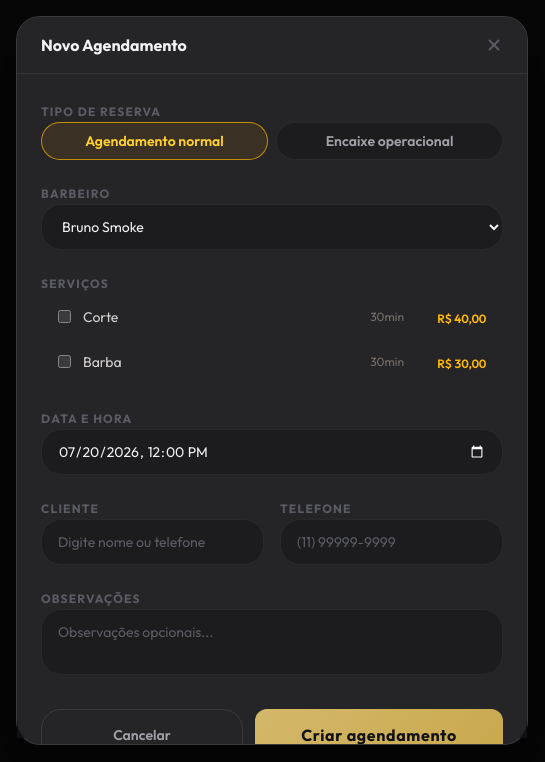
UI Cliente Clube no Modal de Agendamentos › 1. Cliente sem Clube: modal mantém preço normal e não mostra badge
// Buscar e selecionar cliente
Type "Maria" into the search field titled "Cliente".
click(152, 542); type("Maria")  # box left=41, top=518, right=264, bottom=564
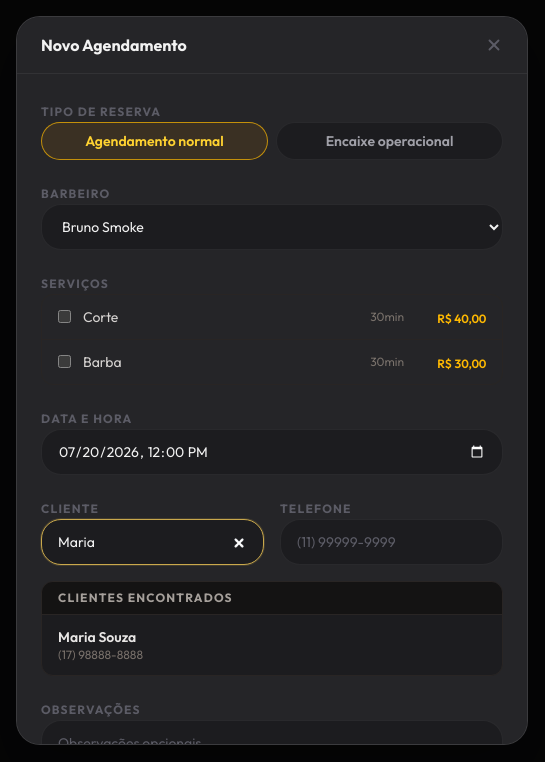
Check: the text "Maria Souza" is shown
Click the text "Maria Souza".
click(97, 636)  # box left=58, top=628, right=136, bottom=646
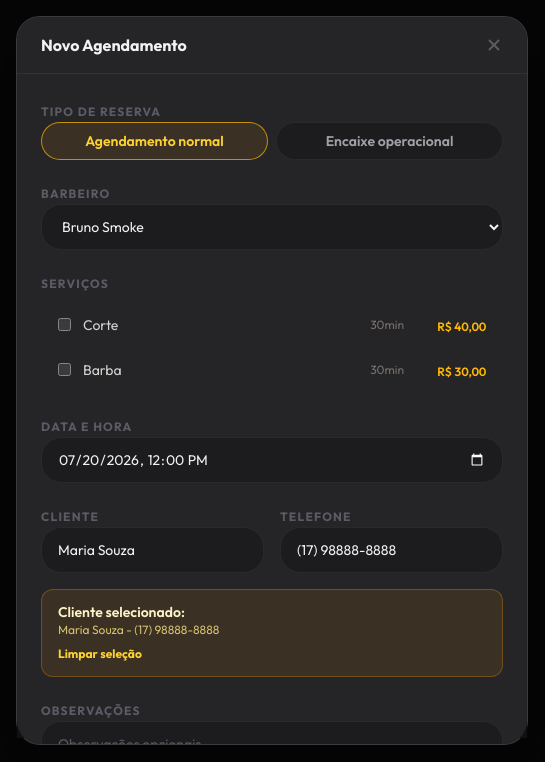
Check: the text "R$ 40,00" is shown, box left=437, top=318, right=486, bottom=334
Check: the text "Clientes encontrados" is gone
